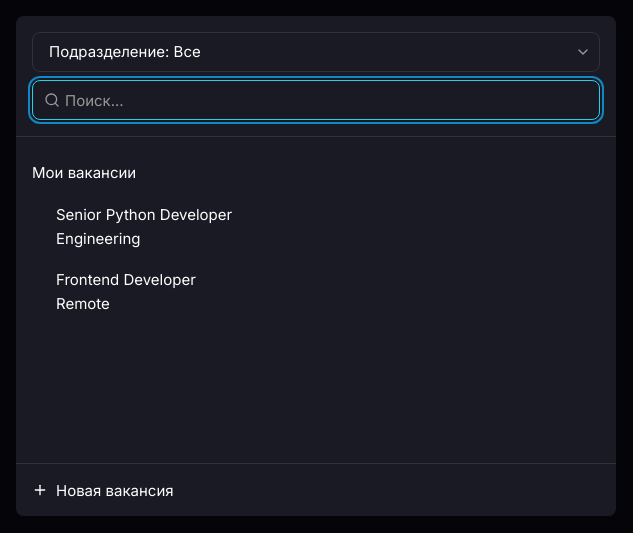
Test case: AddToVacancyModal › Submit Application › should enable submit button when vacancy is selected
The image size is (633, 533).
Expected: the text "Senior Python Developer" is shown, [56,202,232,226]
What coordinates should you click on to do the following:
click the button "Senior Python Developer Engineering"
I would click on:
 (144, 214)
Its box is [16,194,616,259].
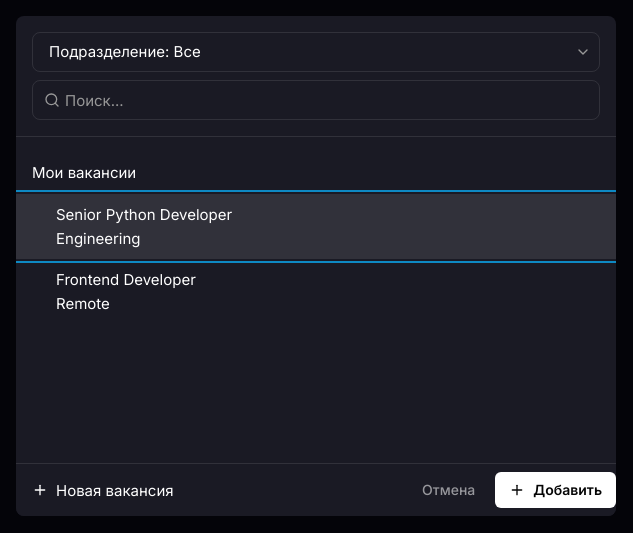
Now the button "Добавить" is enabled, box [495,472,616,508]
